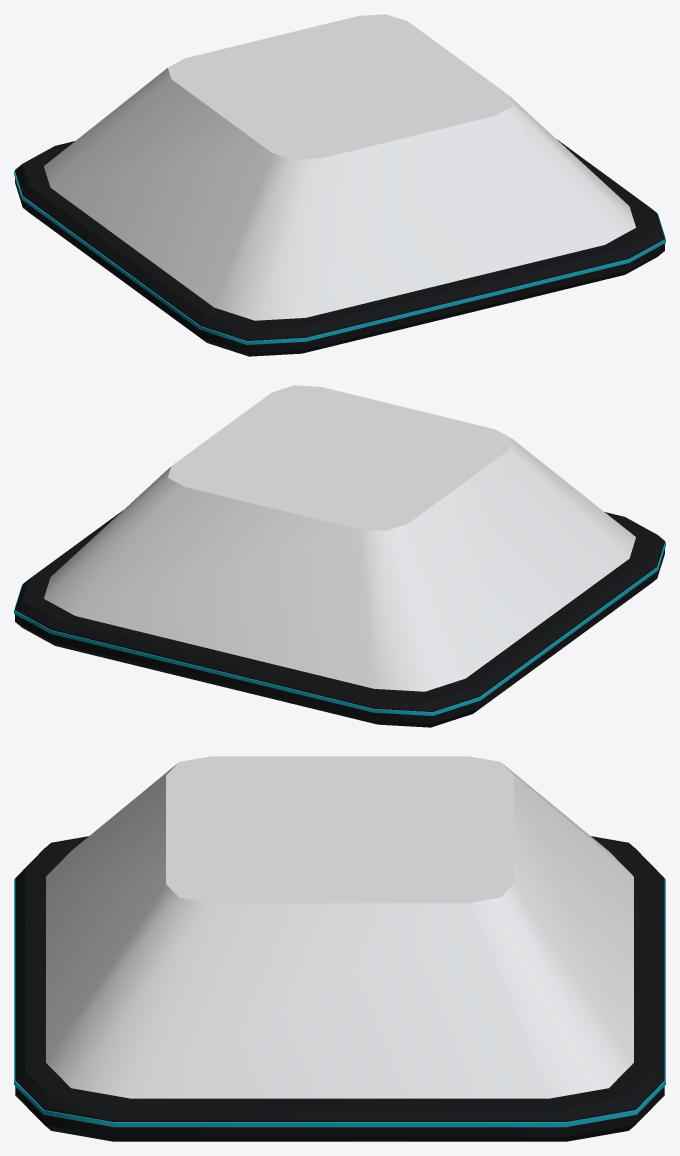
File: n2_housing.obj
3 renders of one model, top to bottom at view 1: azimuth 30°, elevation 25°; view 2: azimuth 150°, elevation 25°; view 3: azimuth 270°, elevation 25°, orthographic. The views are drawn at different scales.
Parts seen in each view (by area): view 1: n2_housing; view 2: n2_housing; view 3: n2_housing.
Boxes of the visible parts, bbox=[...] form: n2_housing: bbox=[14, 14, 665, 356]; n2_housing: bbox=[14, 385, 665, 727]; n2_housing: bbox=[14, 756, 665, 1141].
Bounding box in the file's own units: 2.06 × 0.585 × 1.99.
